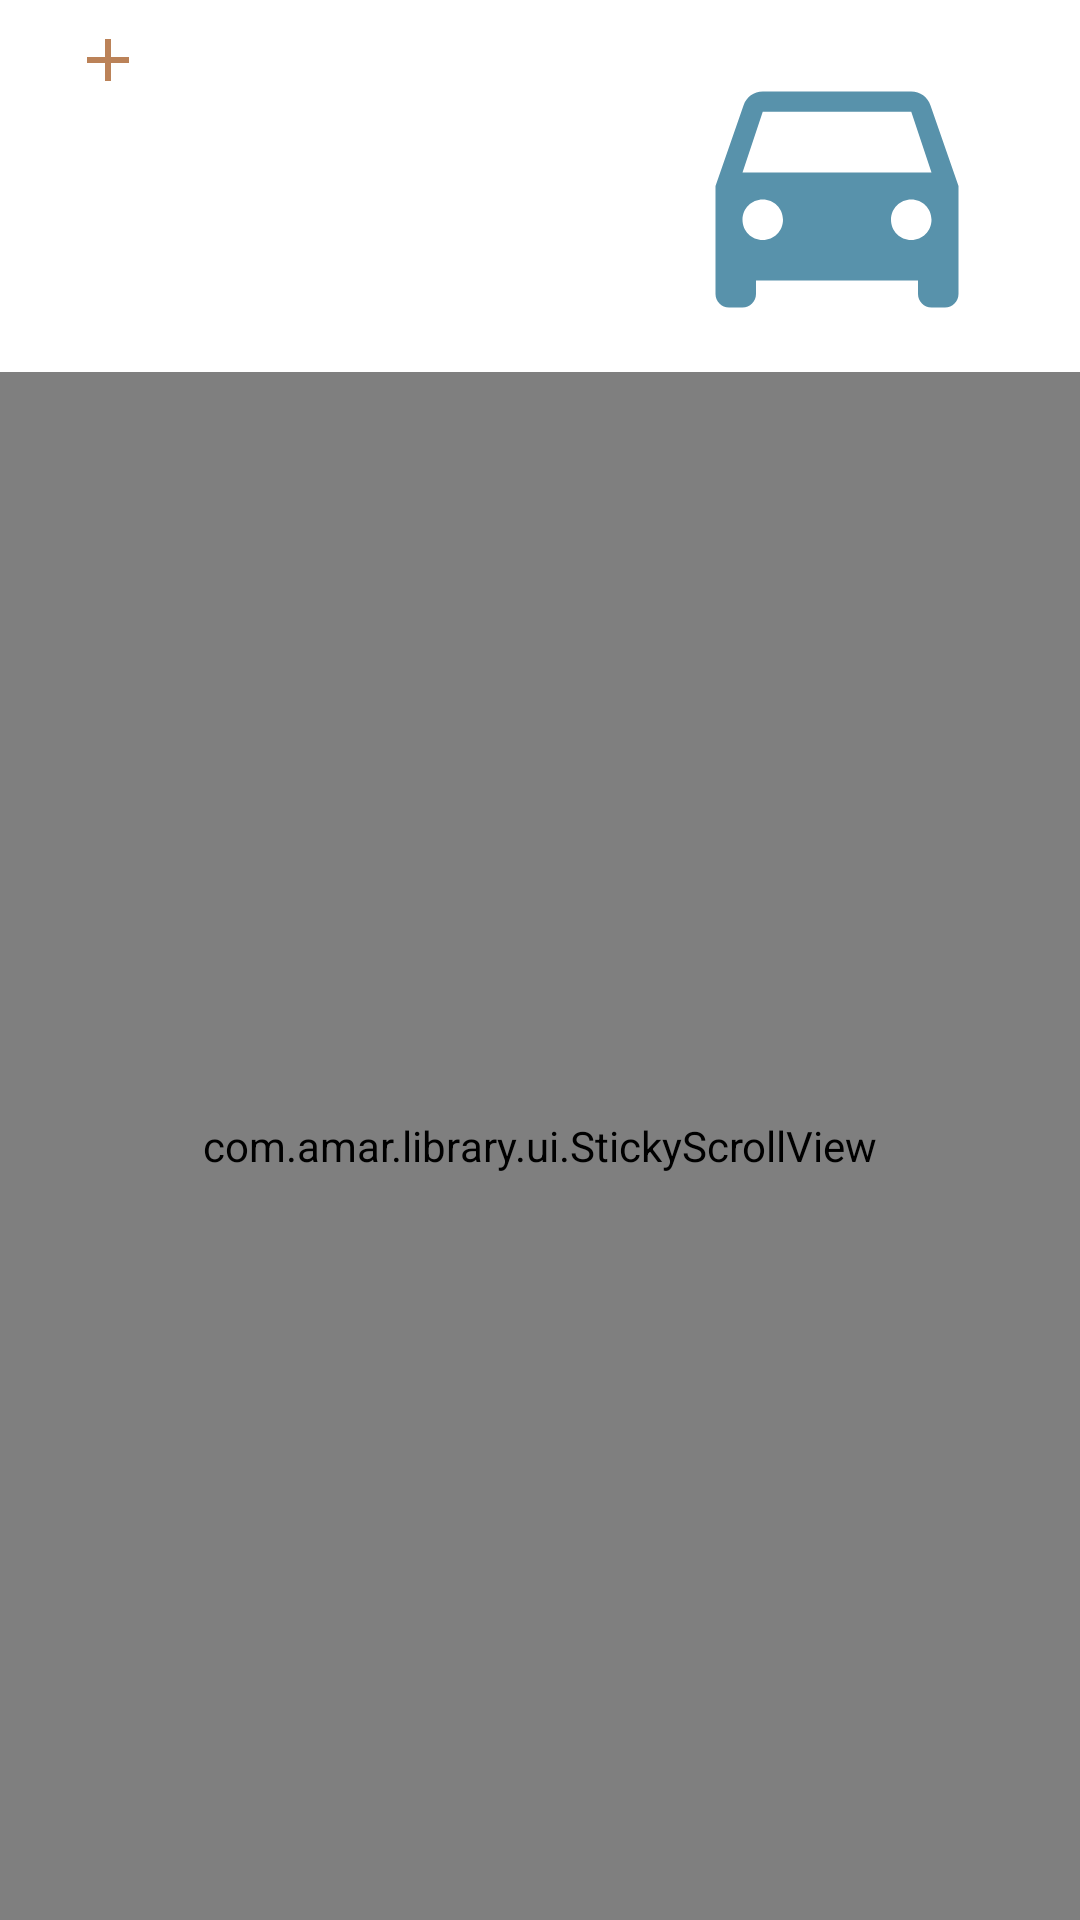

Icons on this 1080 × 1920 Android screen, each with its box as BBox(x1, y1, x2, y2):
add: BBox(87, 39, 129, 81)
